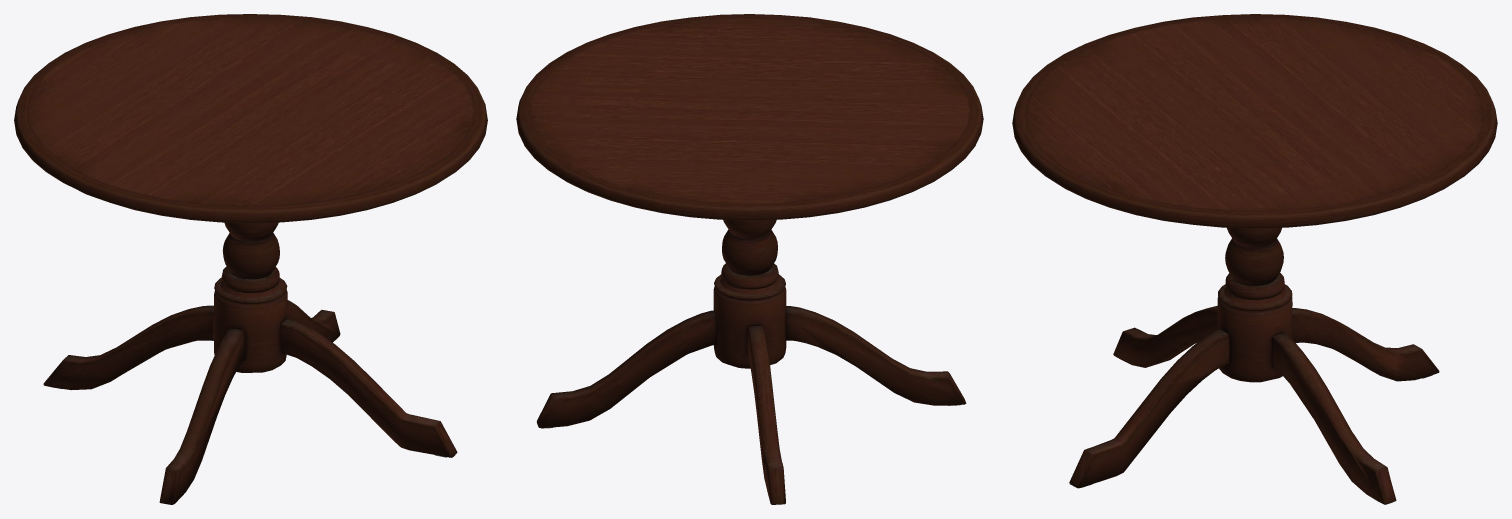
The model's file is round_wooden_table_01.glb.
The picture shows the model from 3 angles, left to right: view 1: azimuth 30°, elevation 25°; view 2: azimuth 150°, elevation 25°; view 3: azimuth 270°, elevation 25°; orthographic projection. The views are drawn at different scales.
Visible parts, largest first — view 1: round_wooden_table_01; view 2: round_wooden_table_01; view 3: round_wooden_table_01.
Boxes of the visible parts, bbox=[...] form: round_wooden_table_01: bbox=[14, 14, 487, 504]; round_wooden_table_01: bbox=[516, 14, 983, 504]; round_wooden_table_01: bbox=[1012, 14, 1497, 504].
Bounding box in the file's own units: 1.4 × 1 × 1.4.
Materials: 1 (1 with a texture image).
